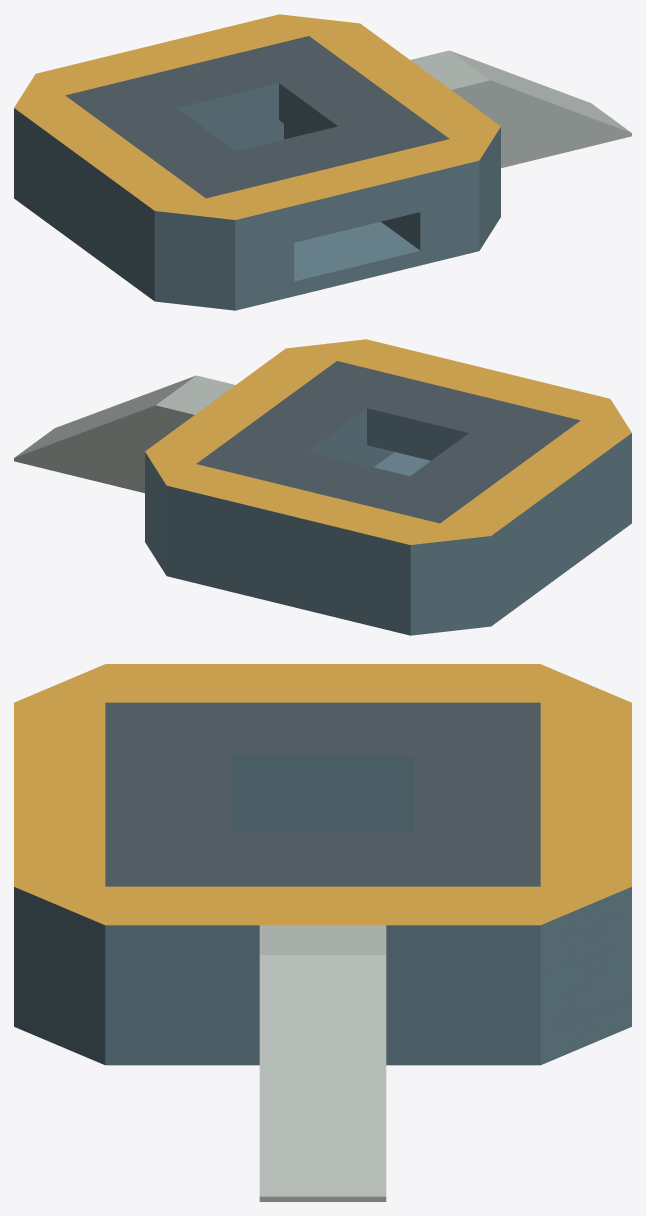
The picture shows the model from 3 angles, top to bottom: view 1: azimuth 30°, elevation 25°; view 2: azimuth 150°, elevation 25°; view 3: azimuth 270°, elevation 25°; orthographic projection. The views are drawn at different scales.
Parts seen in each view (by area): view 1: WholeOctagonalLandingPlinthWithTurningVoid, WholeSideApproachRamp; view 2: WholeOctagonalLandingPlinthWithTurningVoid, WholeSideApproachRamp; view 3: WholeOctagonalLandingPlinthWithTurningVoid, WholeSideApproachRamp.
Boxes of the visible parts, x1,y1,x2,y2 form: WholeOctagonalLandingPlinthWithTurningVoid: [14, 14, 500, 310]; WholeSideApproachRamp: [410, 50, 631, 168]; WholeOctagonalLandingPlinthWithTurningVoid: [145, 339, 631, 635]; WholeSideApproachRamp: [14, 375, 235, 493]; WholeOctagonalLandingPlinthWithTurningVoid: [14, 664, 631, 1065]; WholeSideApproachRamp: [259, 925, 386, 1201].
Size of the model in its own units: 6.7 by 1.1 by 4.4.
